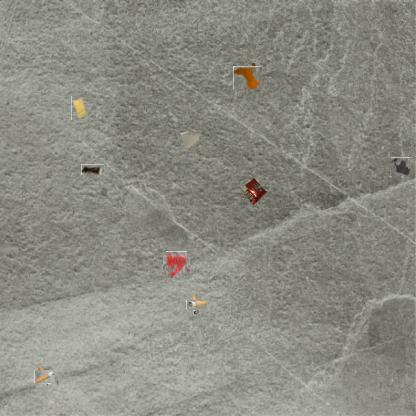dirty: (241, 176, 269, 206), (235, 65, 260, 90), (71, 96, 88, 120), (179, 130, 201, 148), (36, 368, 54, 385), (81, 164, 104, 175), (189, 298, 204, 313)
liquid: (164, 253, 189, 277), (390, 157, 410, 176)
